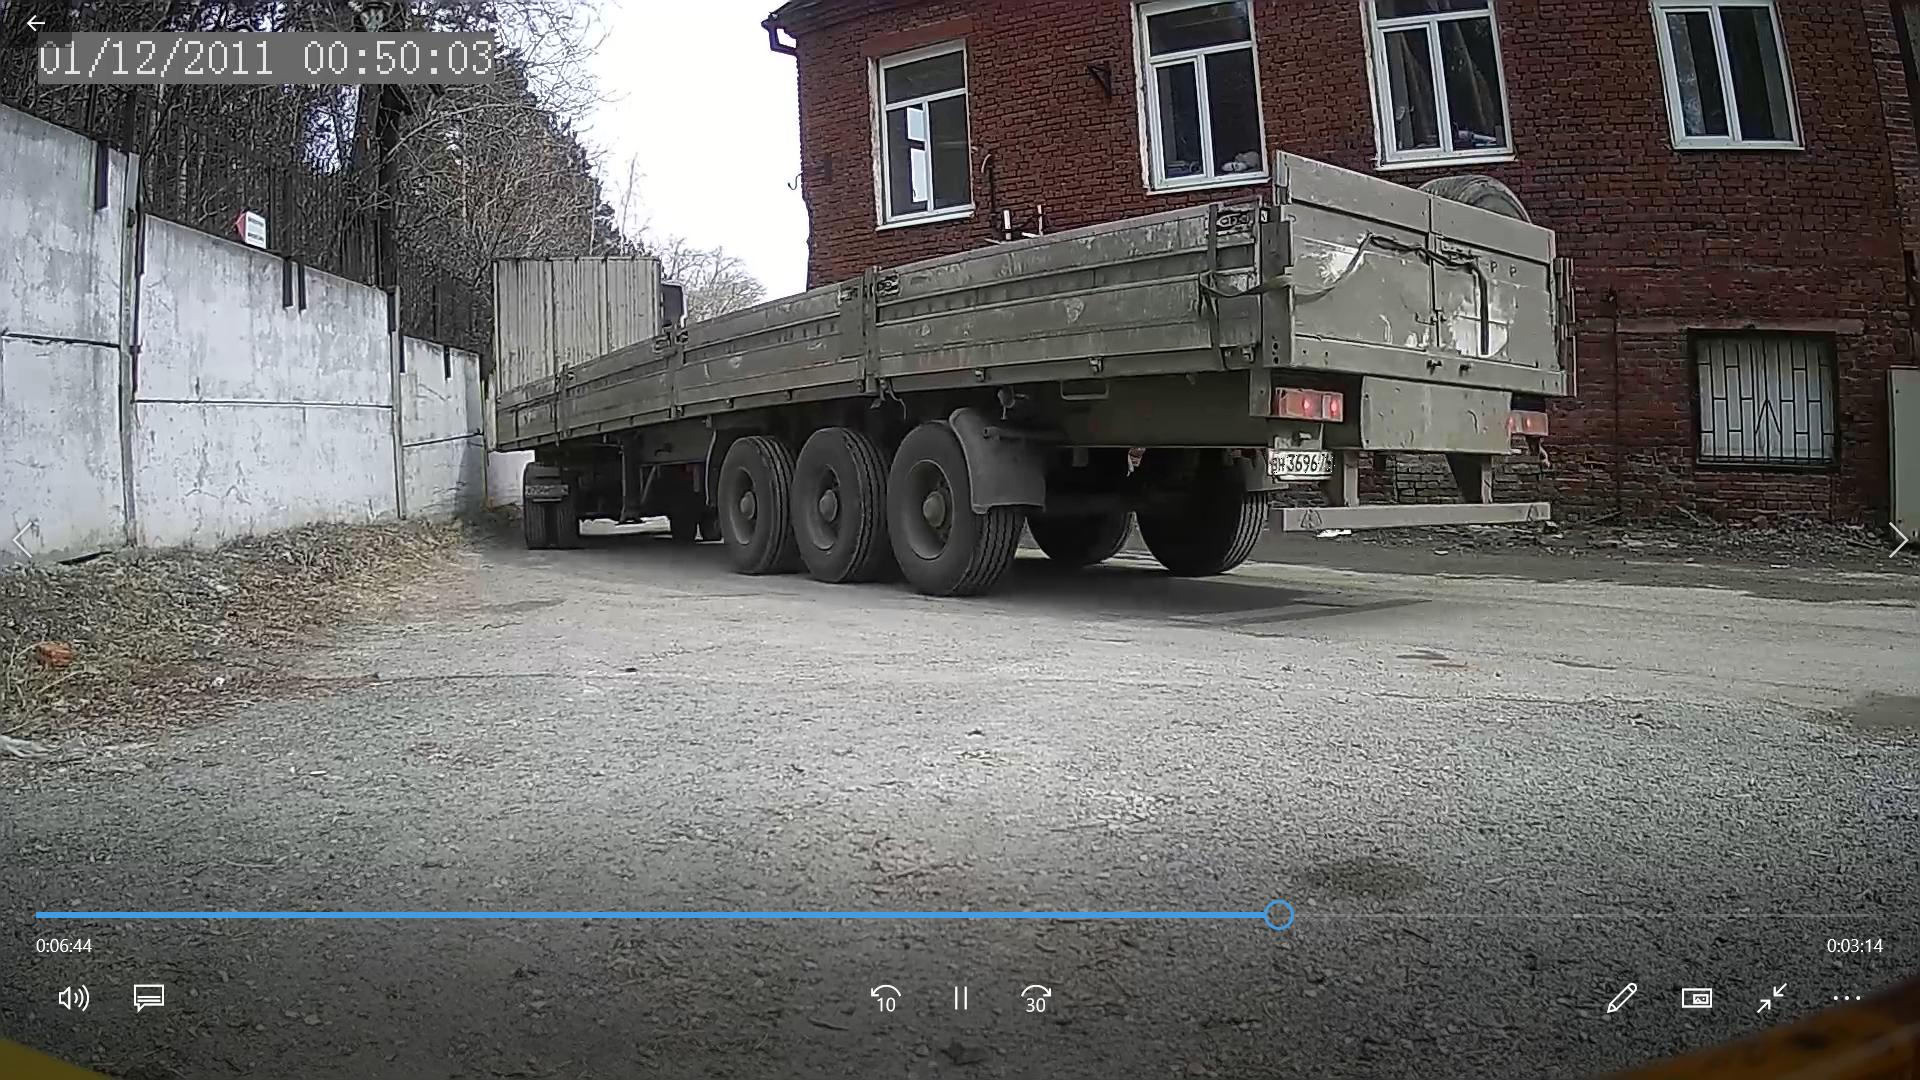plate: (1272, 454, 1338, 474)
